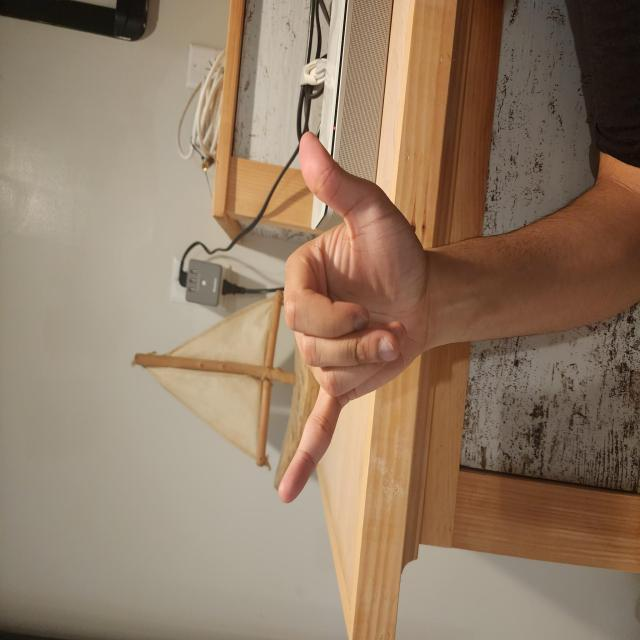Y: (100, 361, 385, 583)
